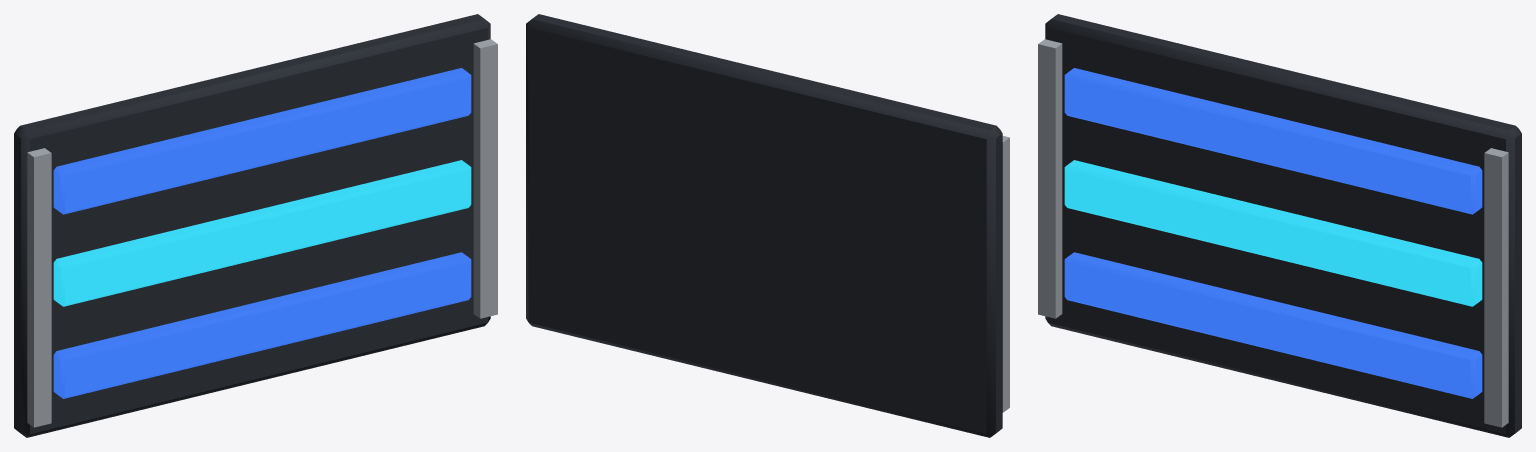
Rendered from panellight_triple_bar_panel.glb.
3 renders of one model, left to right at view 1: azimuth 30°, elevation 25°; view 2: azimuth 150°, elevation 25°; view 3: azimuth 330°, elevation 25°, orthographic.
Parts seen in each view (by area): view 1: panellight_triple_bar_panel; view 2: panellight_triple_bar_panel; view 3: panellight_triple_bar_panel.
Boxes of the visible parts, left/top/right/bottom form: panellight_triple_bar_panel: left=14, top=14, right=497, bottom=437; panellight_triple_bar_panel: left=526, top=14, right=1009, bottom=437; panellight_triple_bar_panel: left=1038, top=14, right=1521, bottom=437.
Size of the model in its own units: 0.8 by 0.5 by 0.065.
